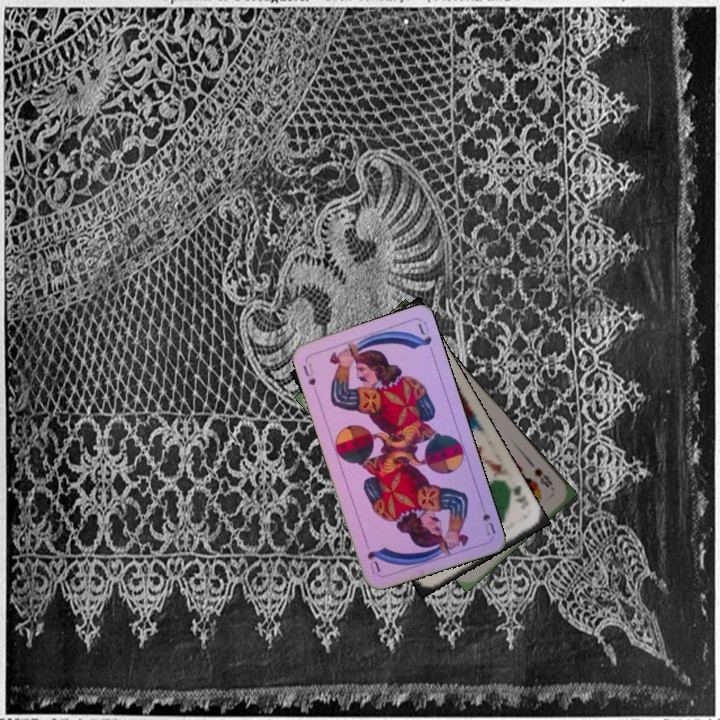GK: (504, 480, 532, 512)
S8: (530, 464, 555, 490)
SU: (476, 498, 498, 538), (299, 356, 320, 396)
